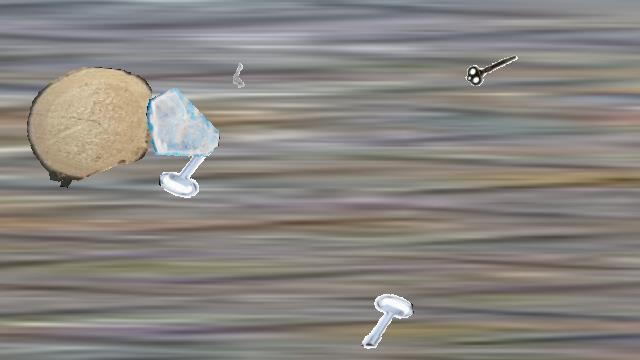glass: (146, 85, 220, 159)
metal: (159, 139, 221, 201), (354, 290, 414, 350), (463, 42, 521, 100), (220, 52, 258, 90)
wood: (27, 67, 151, 189)
